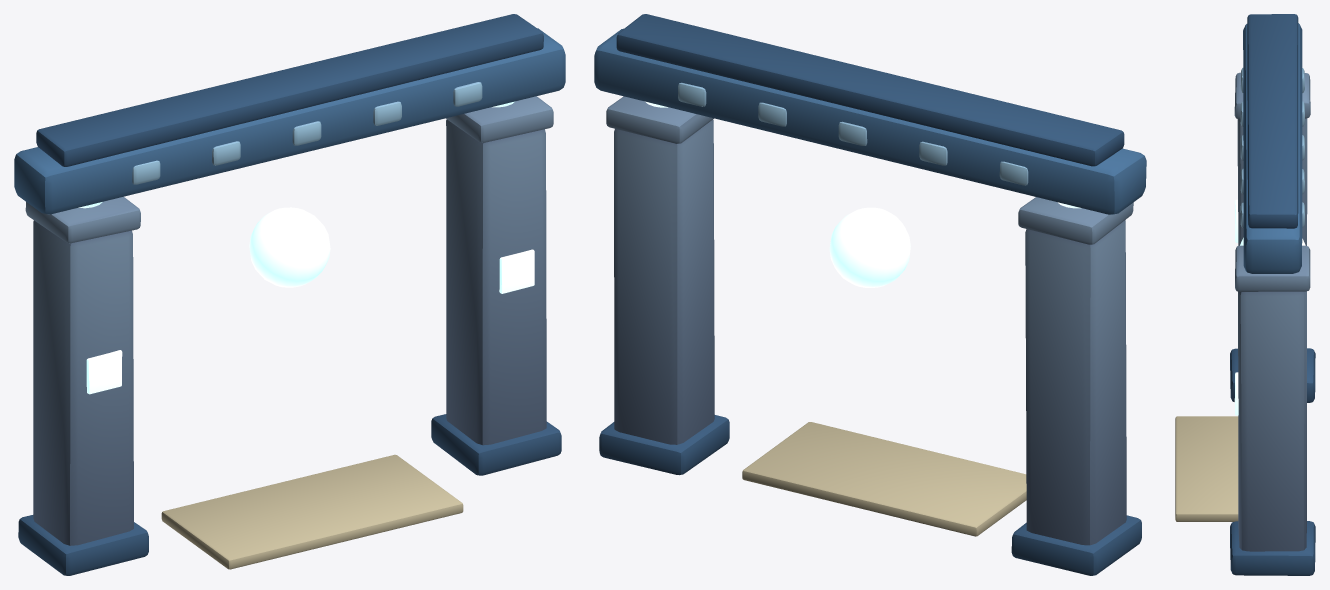
The picture shows the model from 3 angles, left to right: view 1: azimuth 30°, elevation 25°; view 2: azimuth 150°, elevation 25°; view 3: azimuth 270°, elevation 25°; orthographic projection. The views are drawn at different scales.
Parts seen in each view (by area): view 1: gate_2d37cbd6; view 2: gate_2d37cbd6; view 3: gate_2d37cbd6.
Boxes of the visible parts, bbox=[...] form: gate_2d37cbd6: bbox=[14, 14, 565, 575]; gate_2d37cbd6: bbox=[594, 14, 1146, 575]; gate_2d37cbd6: bbox=[1175, 14, 1315, 575].
Size of the model in its own units: 5.36 by 4.09 by 1.44.
